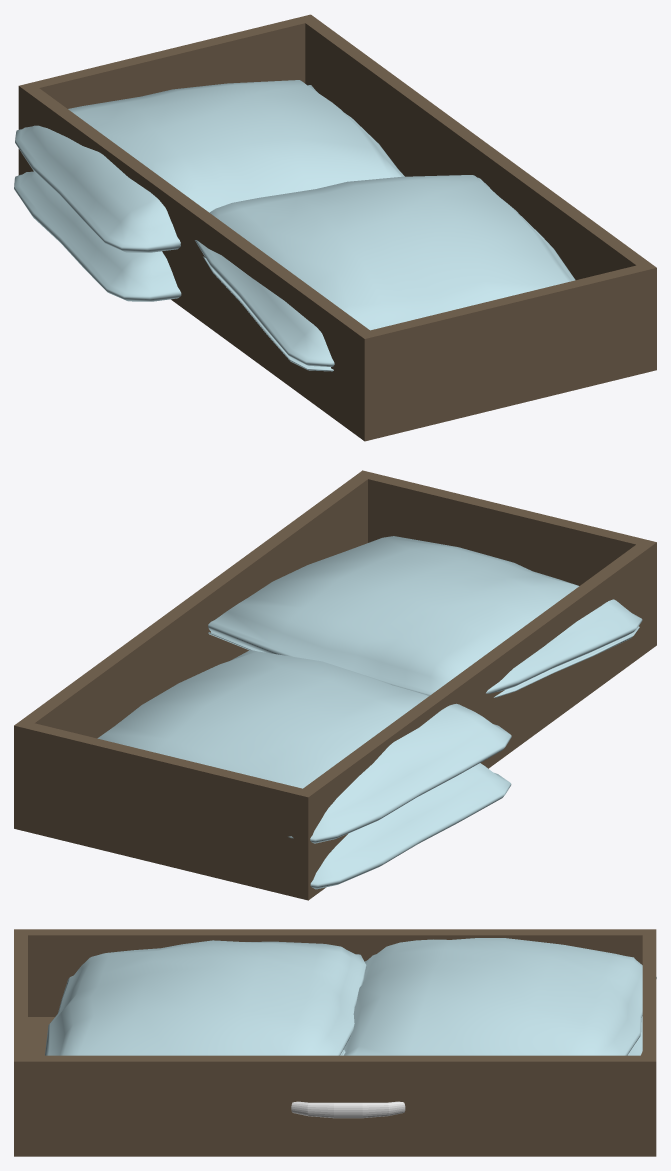
The model's file is Drawer.glb.
3 renders of one model, top to bottom at view 1: azimuth 30°, elevation 25°; view 2: azimuth 150°, elevation 25°; view 3: azimuth 270°, elevation 25°, orthographic. The views are drawn at different scales.
Parts seen in each view (by area): view 1: Cube.003; view 2: Cube.003; view 3: Cube.003.
Boxes of the visible parts, left/top/right/bottom form: Cube.003: left=14, top=14, right=656, bottom=441; Cube.003: left=14, top=470, right=656, bottom=900; Cube.003: left=14, top=929, right=656, bottom=1156.
Size of the model in its own units: 0.5177 by 0.1618 by 0.8683.
